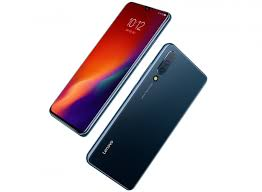lenovo: (85, 41, 209, 192)
